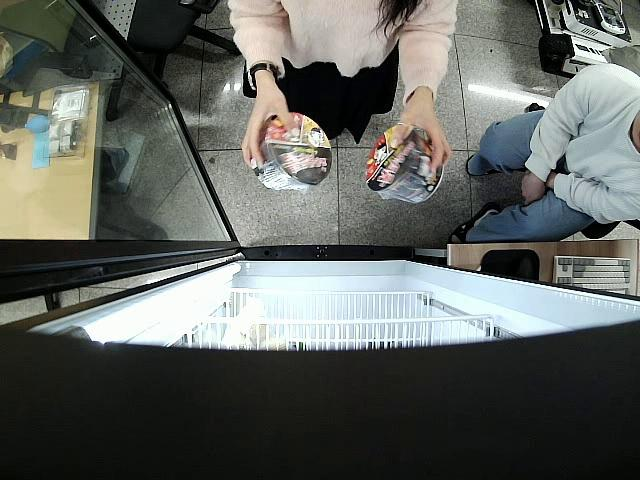00_hand: (239, 87, 300, 172), (389, 107, 453, 173)
07_buldak_L: (365, 124, 443, 203), (255, 113, 331, 190)
